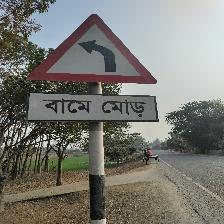Left-Turn: (22, 12, 160, 124)
